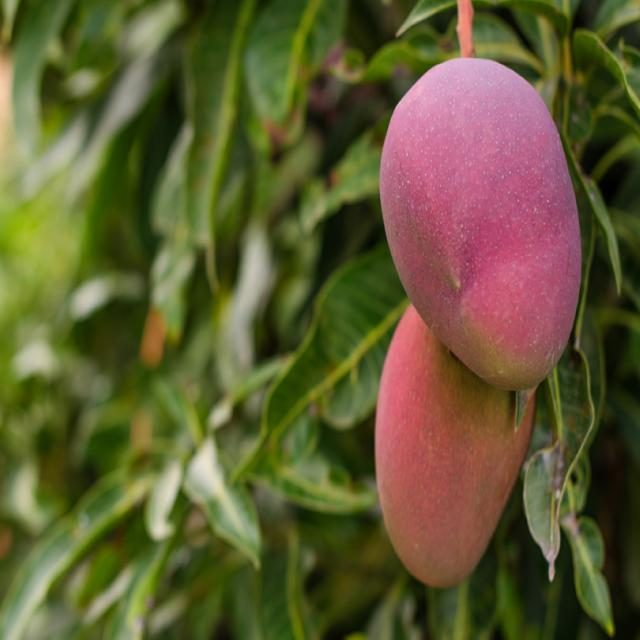Mango: (377, 49, 591, 391), (360, 274, 553, 598)
